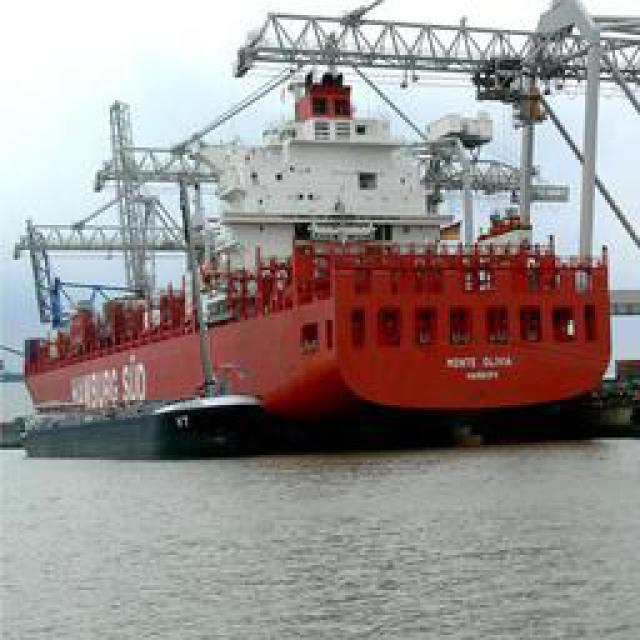Ship: (19, 49, 624, 459)
